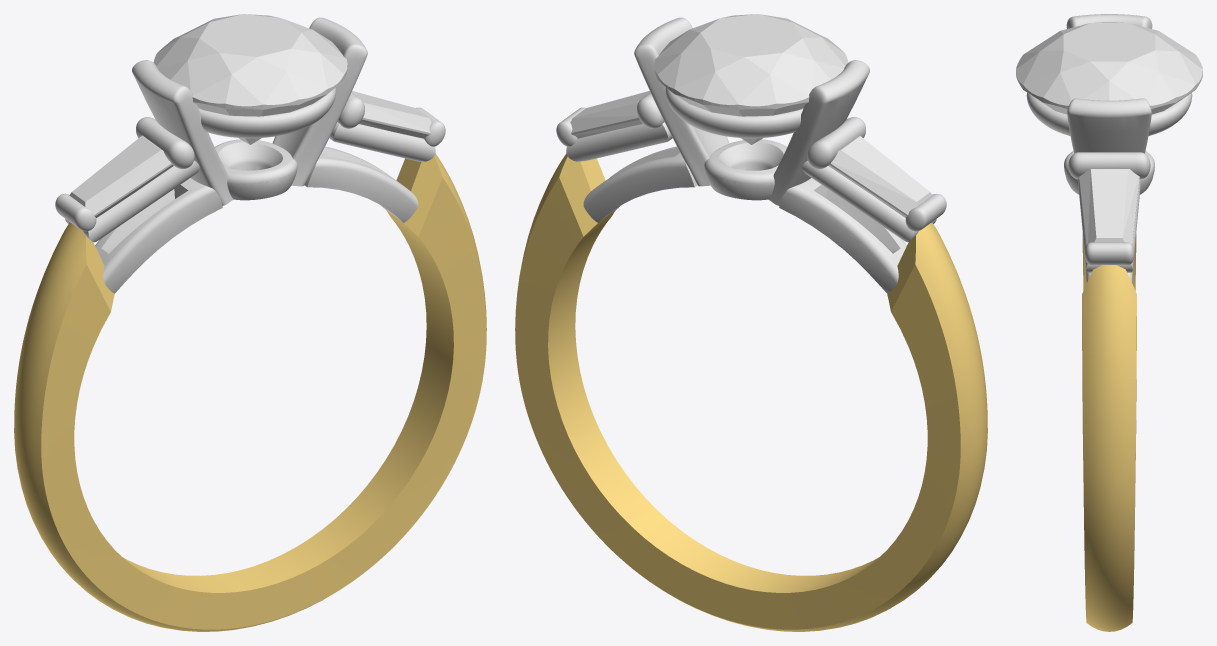
File: LiamV3YGPT_blender.glb
The picture shows the model from 3 angles, left to right: view 1: azimuth 30°, elevation 25°; view 2: azimuth 150°, elevation 25°; view 3: azimuth 270°, elevation 25°; orthographic projection. The views are drawn at different scales.
Visible parts, largest first — view 1: v3 YG for 3d model, v3 PT for 3d model, center dia for 3d model, tapered dia v3 for 3d model, tapered dia v3 for 3d model.001; view 2: v3 YG for 3d model, v3 PT for 3d model, center dia for 3d model, tapered dia v3 for 3d model, tapered dia v3 for 3d model.001; view 3: v3 YG for 3d model, center dia for 3d model, v3 PT for 3d model, tapered dia v3 for 3d model.001.
Part boxes in pixels (bbox=[...]): v3 YG for 3d model: bbox=[14, 153, 486, 631]; v3 PT for 3d model: bbox=[55, 17, 445, 293]; center dia for 3d model: bbox=[153, 14, 347, 144]; tapered dia v3 for 3d model: bbox=[69, 135, 173, 217]; tapered dia v3 for 3d model.001: bbox=[351, 91, 431, 138]; v3 YG for 3d model: bbox=[515, 153, 987, 631]; v3 PT for 3d model: bbox=[556, 17, 946, 293]; center dia for 3d model: bbox=[654, 14, 848, 144]; tapered dia v3 for 3d model: bbox=[828, 135, 932, 217]; tapered dia v3 for 3d model.001: bbox=[570, 91, 650, 138]; v3 YG for 3d model: bbox=[1082, 234, 1136, 631]; center dia for 3d model: bbox=[1016, 22, 1202, 114]; v3 PT for 3d model: bbox=[1026, 14, 1192, 283]; tapered dia v3 for 3d model.001: bbox=[1079, 169, 1139, 244].
Size of the model in its own units: 20.57 by 25.04 by 7.5.
